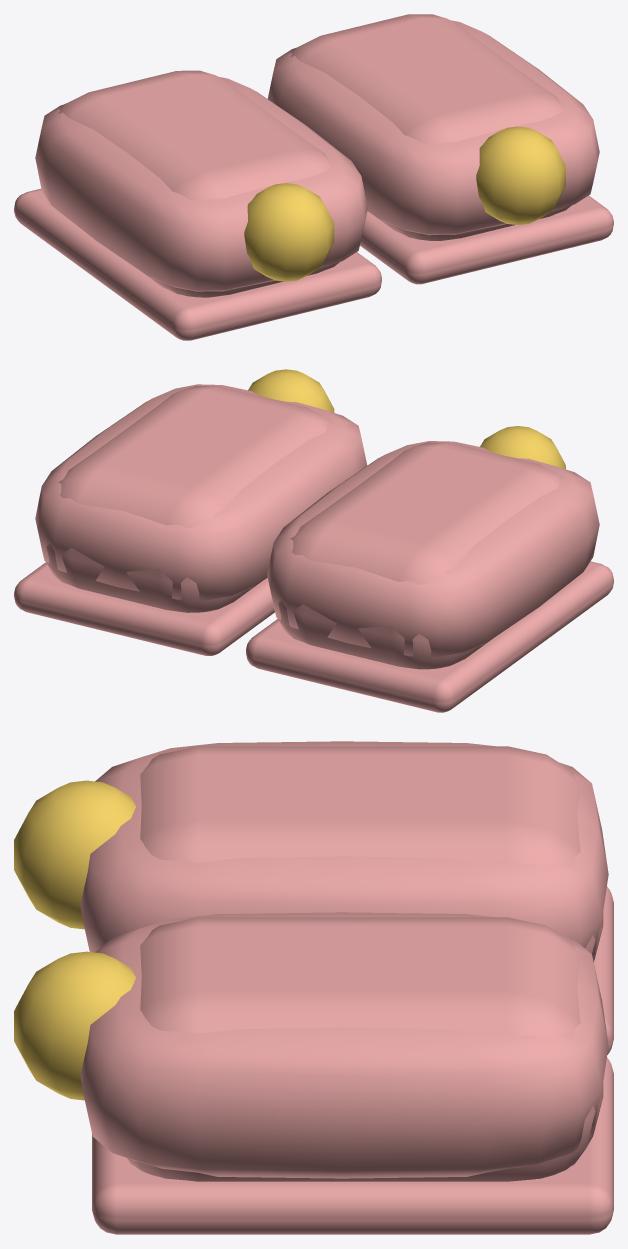
Rendered from earth_egg_shoes.glb.
The picture shows the model from 3 angles, top to bottom: view 1: azimuth 30°, elevation 25°; view 2: azimuth 150°, elevation 25°; view 3: azimuth 270°, elevation 25°; orthographic projection. The views are drawn at different scales.
Parts seen in each view (by area): view 1: earth_egg_shoes_LegL, earth_egg_shoes_LegR; view 2: earth_egg_shoes_LegL, earth_egg_shoes_LegR; view 3: earth_egg_shoes_LegR, earth_egg_shoes_LegL.
Part boxes in pixels (x1,y1,x2,y2): earth_egg_shoes_LegL: [14, 70, 381, 340]; earth_egg_shoes_LegR: [267, 14, 613, 284]; earth_egg_shoes_LegL: [246, 426, 613, 712]; earth_egg_shoes_LegR: [14, 369, 367, 655]; earth_egg_shoes_LegR: [14, 912, 613, 1234]; earth_egg_shoes_LegL: [14, 741, 613, 1054].
Size of the model in its own units: 0.37 by 0.1075 by 0.2816.
